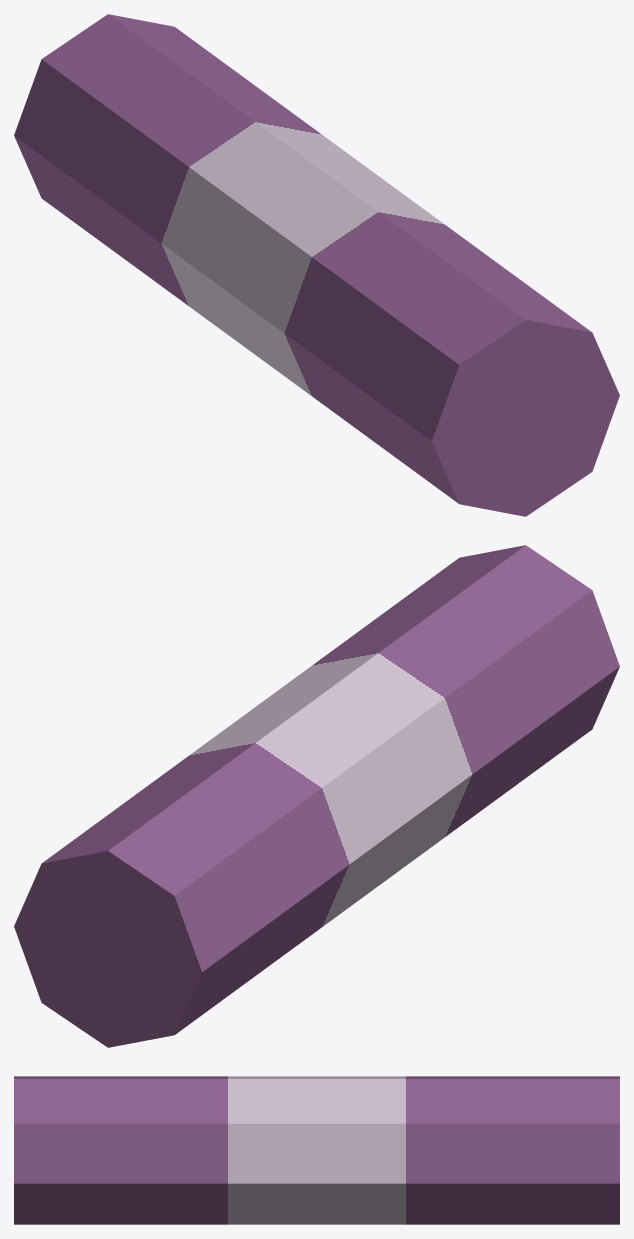
Rendered from sacos_de_lixo.gltf.
The picture shows the model from 3 angles, top to bottom: view 1: azimuth 30°, elevation 25°; view 2: azimuth 150°, elevation 25°; view 3: azimuth 270°, elevation 25°; orthographic projection. The views are drawn at different scales.
Parts seen in each view (by area): view 1: Cylinder; view 2: Cylinder; view 3: Cylinder.
Boxes of the visible parts, <box> form: Cylinder: <box>14,14,619,516</box>; Cylinder: <box>14,545,619,1047</box>; Cylinder: <box>14,1076,619,1224</box>.
Size of the model in its own units: 0.2807 by 0.2807 by 1.08.
1 material, 1 textured.
